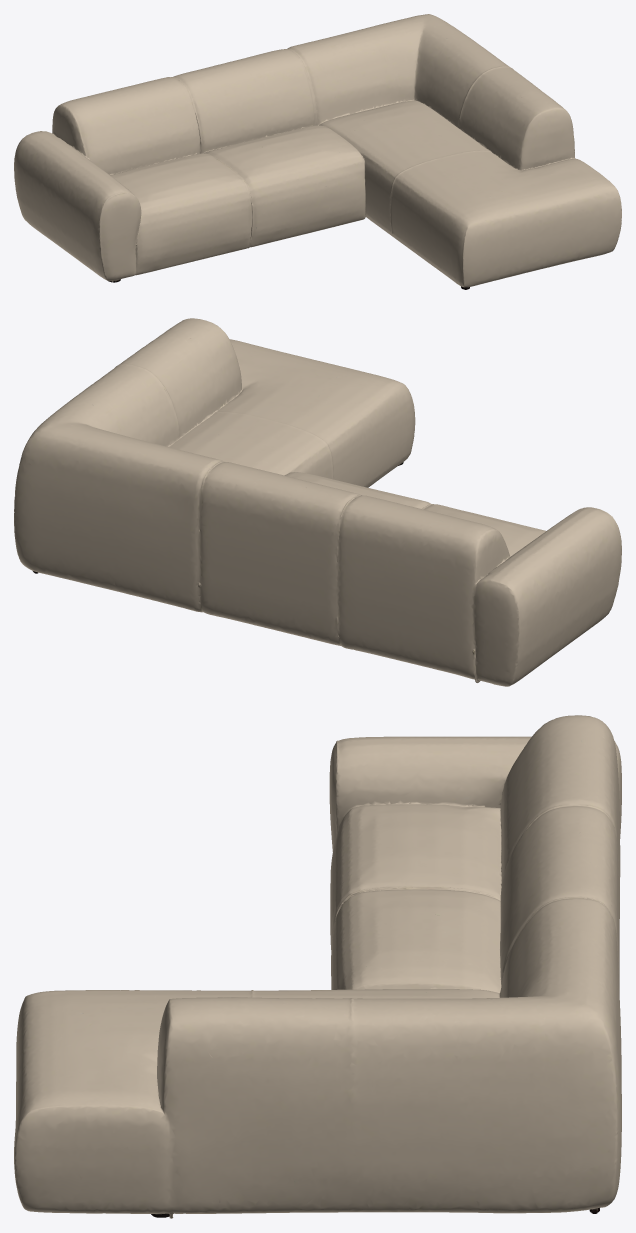
Rendered from contemporary_l_shaped_sectional_sofa_ot2l5a.glb.
3 views of the same model, one above another, from view 1: azimuth 30°, elevation 25°; view 2: azimuth 150°, elevation 25°; view 3: azimuth 270°, elevation 25° (orthographic). The views are drawn at different scales.
Visible parts, largest first — view 1: world; view 2: world; view 3: world.
Part boxes in pixels (x1=…): world: x1=14, y1=14, x2=621, y2=289; world: x1=14, y1=318, x2=621, y2=686; world: x1=14, y1=715, x2=621, y2=1218.
Size of the model in its own units: 0.9973 by 0.2726 by 0.7388.
Materials: 1 (1 with a texture image).
